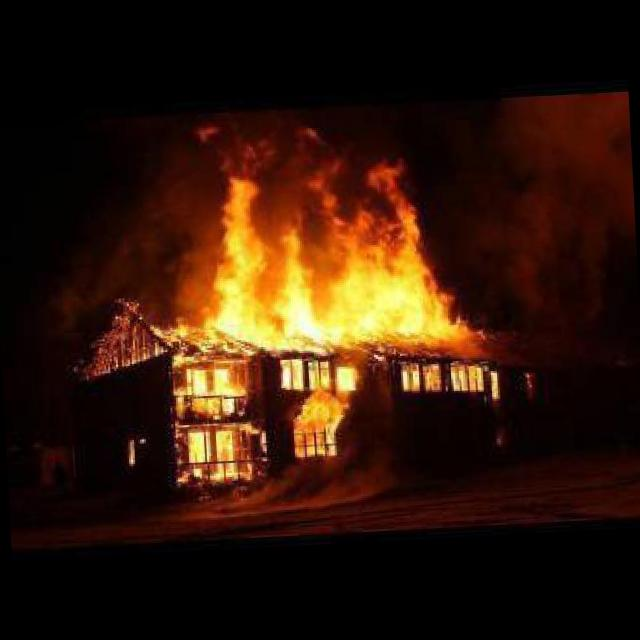Fire: (164, 148, 466, 356), (284, 389, 348, 467), (174, 365, 247, 419), (178, 430, 241, 480), (402, 360, 443, 396), (454, 361, 491, 395), (306, 360, 334, 394), (280, 359, 305, 391), (338, 368, 358, 392)
